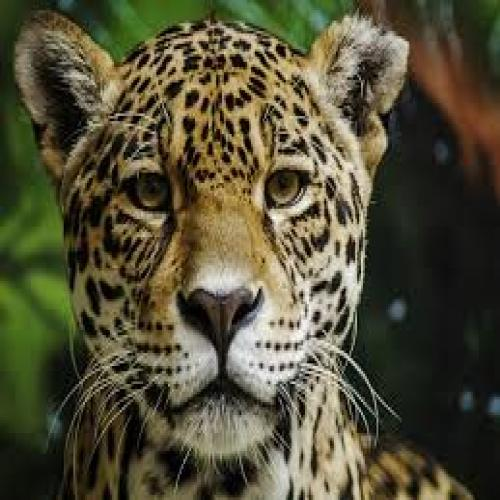jaguar_not-endangered: (27, 7, 397, 500)
